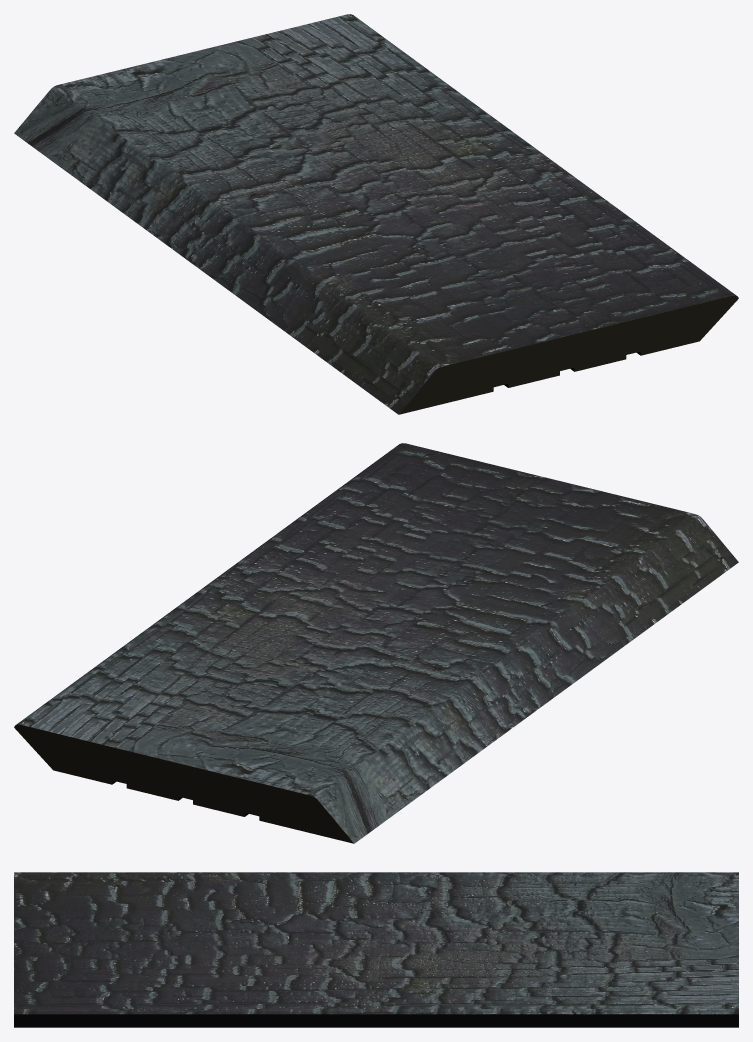
File: thermo-facade-rhombus-carbon.glb
The picture shows the model from 3 angles, top to bottom: view 1: azimuth 30°, elevation 25°; view 2: azimuth 150°, elevation 25°; view 3: azimuth 270°, elevation 25°; orthographic projection. The views are drawn at different scales.
Visible parts, largest first — view 1: Rombas; view 2: Rombas; view 3: Rombas.
Part boxes in pixels (x1,y1,x2,y2): Rombas: (14,14,738,414); Rombas: (14,443,738,843); Rombas: (14,872,738,1027).
Size of the model in its own units: 0.0942 by 0.00994 by 0.1843.
Materials: 3 (1 with a texture image).
